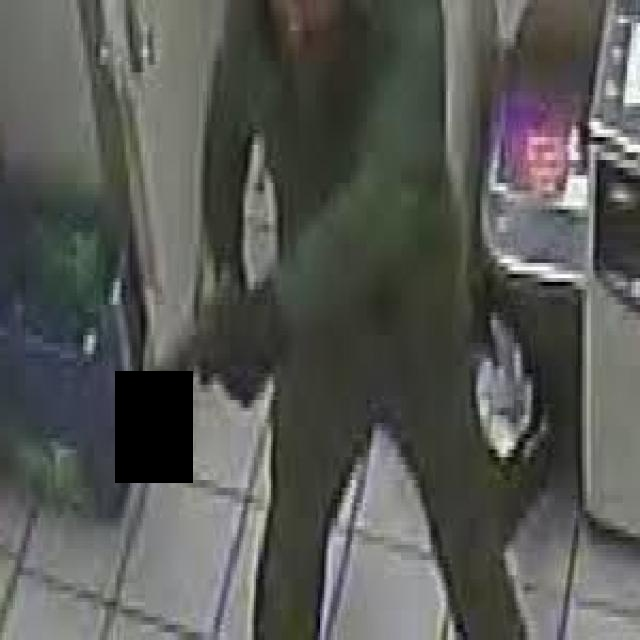gun: (153, 273, 249, 395)
